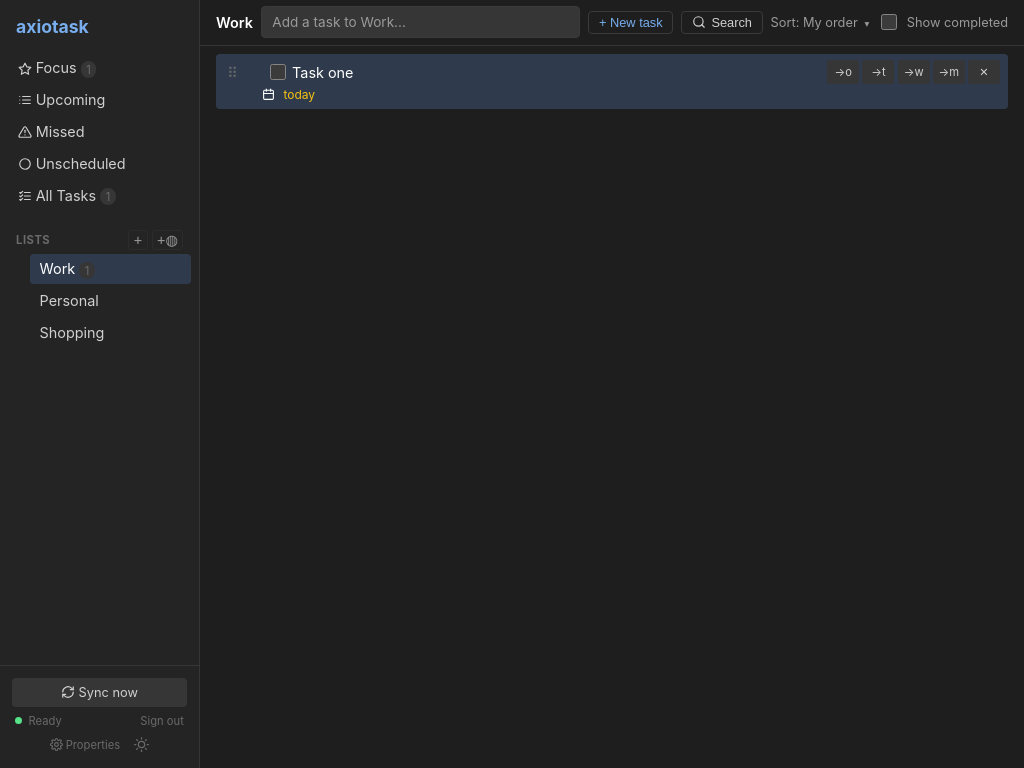
Test: GH#16: Move task between lists › Context menu submenu › context menu has Move to list submenu with available lists
Expected: the text "Task one" is shown, [292,64,354,81]
Right-click the element with class "task-widget" at (612, 81), box [216,54,1008,109]
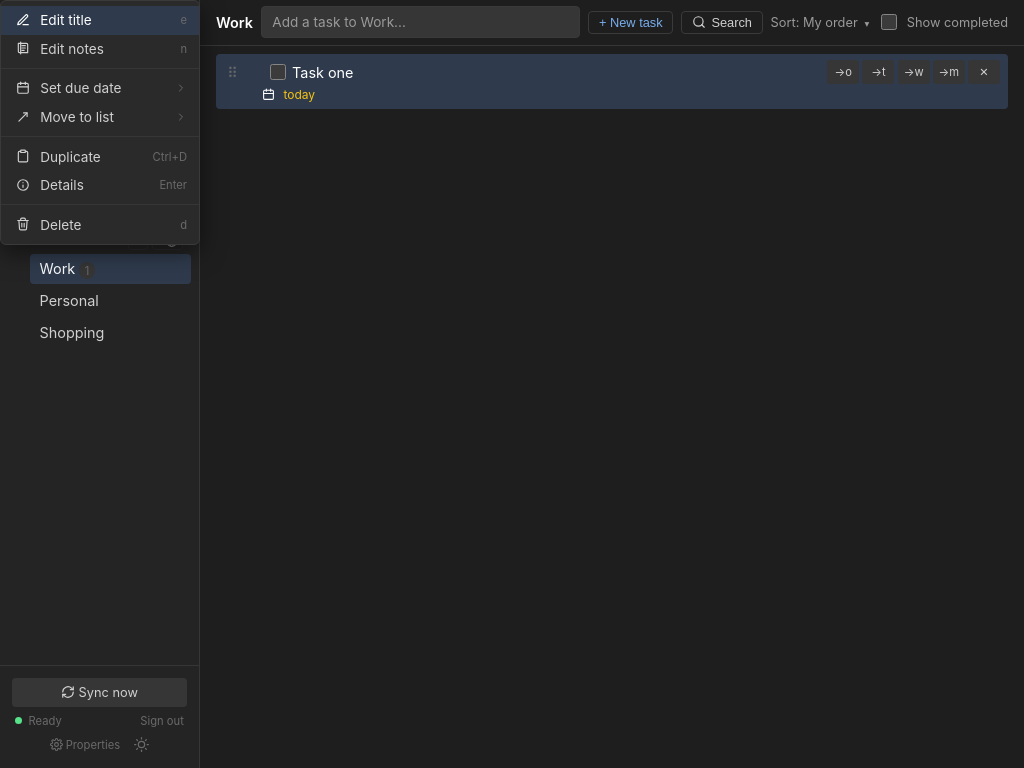
Expected: the text "Move to list" is shown, [40,109,114,125]
